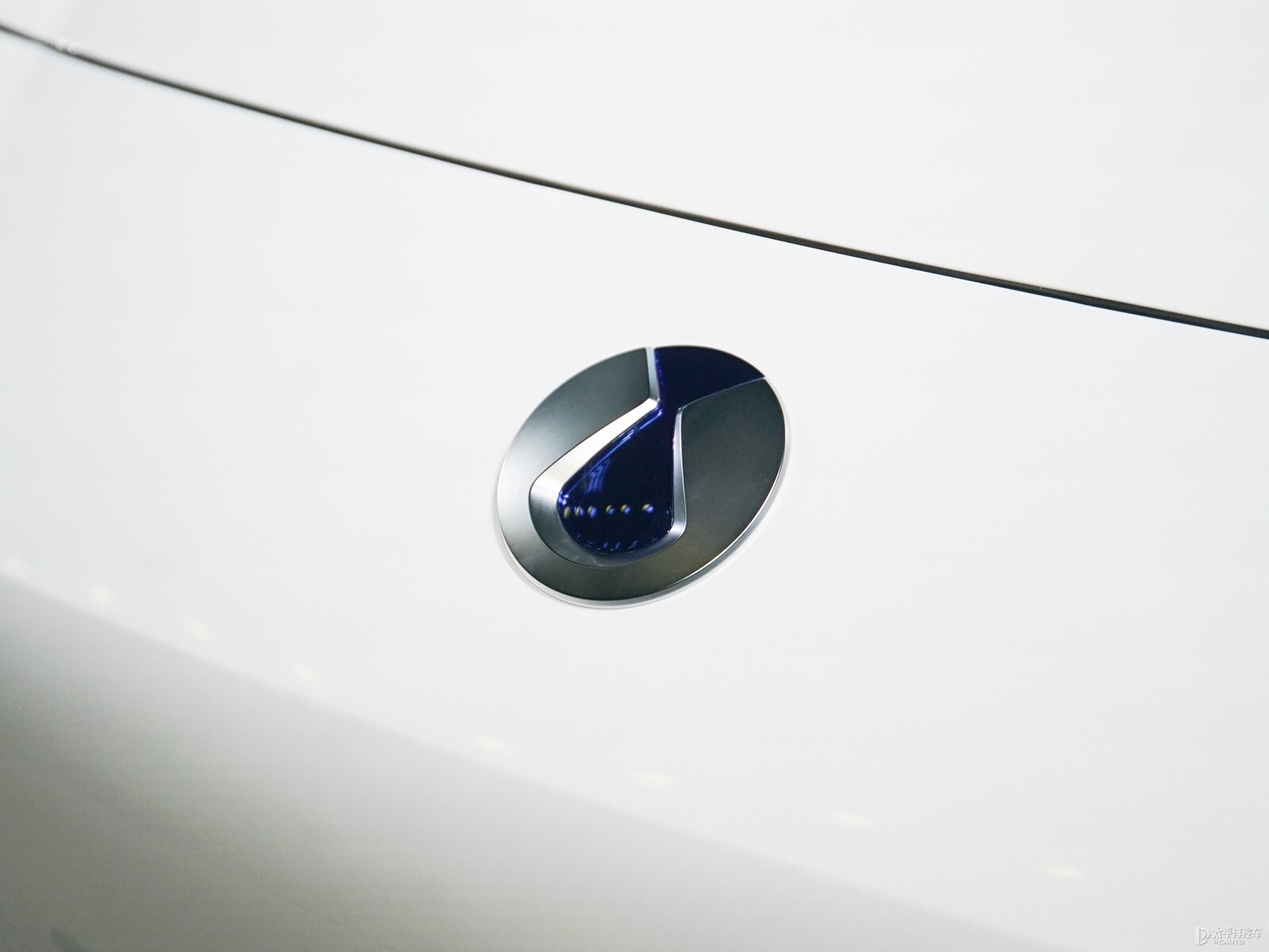DENZA: (497, 345, 785, 603)
